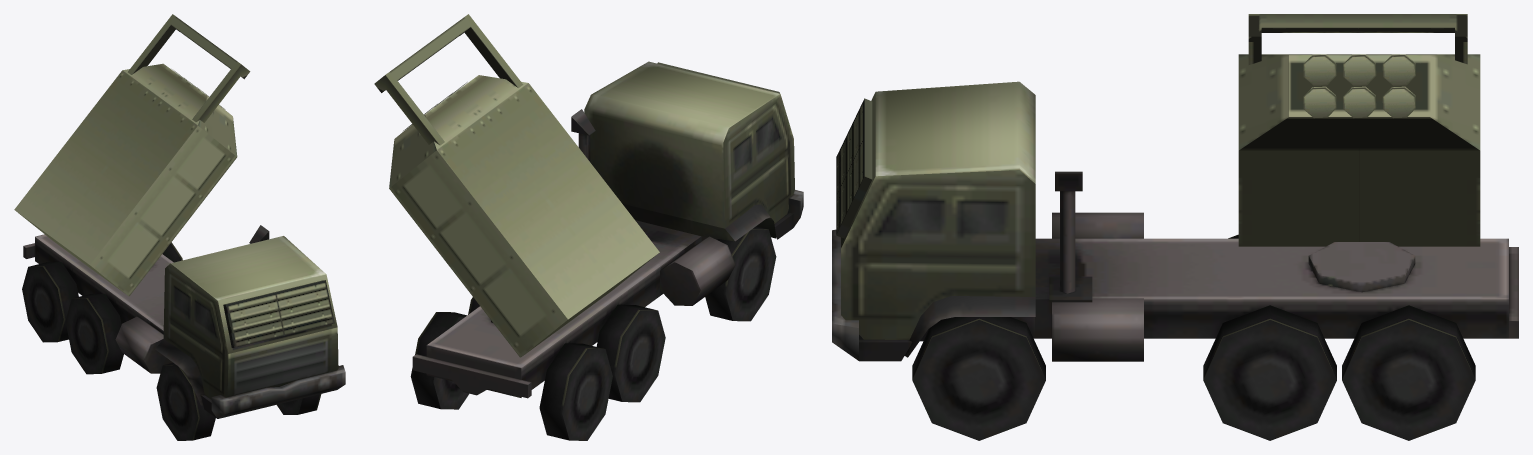
Rendered from HIMARS.DAE.
The picture shows the model from 3 angles, left to right: view 1: azimuth 30°, elevation 25°; view 2: azimuth 150°, elevation 25°; view 3: azimuth 270°, elevation 25°; orthographic projection. The views are drawn at different scales.
Parts seen in each view (by area): view 1: _1153_HIMARS; view 2: _1153_HIMARS; view 3: _1153_HIMARS.
Boxes of the visible parts, <box> form: _1153_HIMARS: <box>14,14,345,440</box>; _1153_HIMARS: <box>374,14,803,440</box>; _1153_HIMARS: <box>832,14,1518,440</box>.
Size of the model in its own units: 83.99 by 133 by 187.
1 material, 1 textured.
